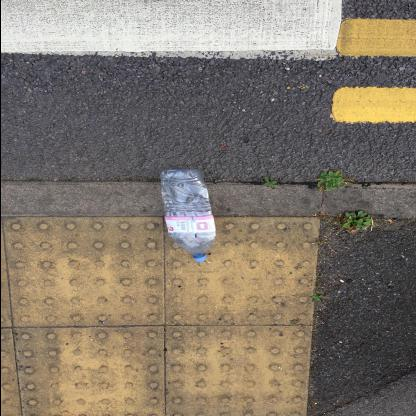plastik: (157, 166, 221, 262)
